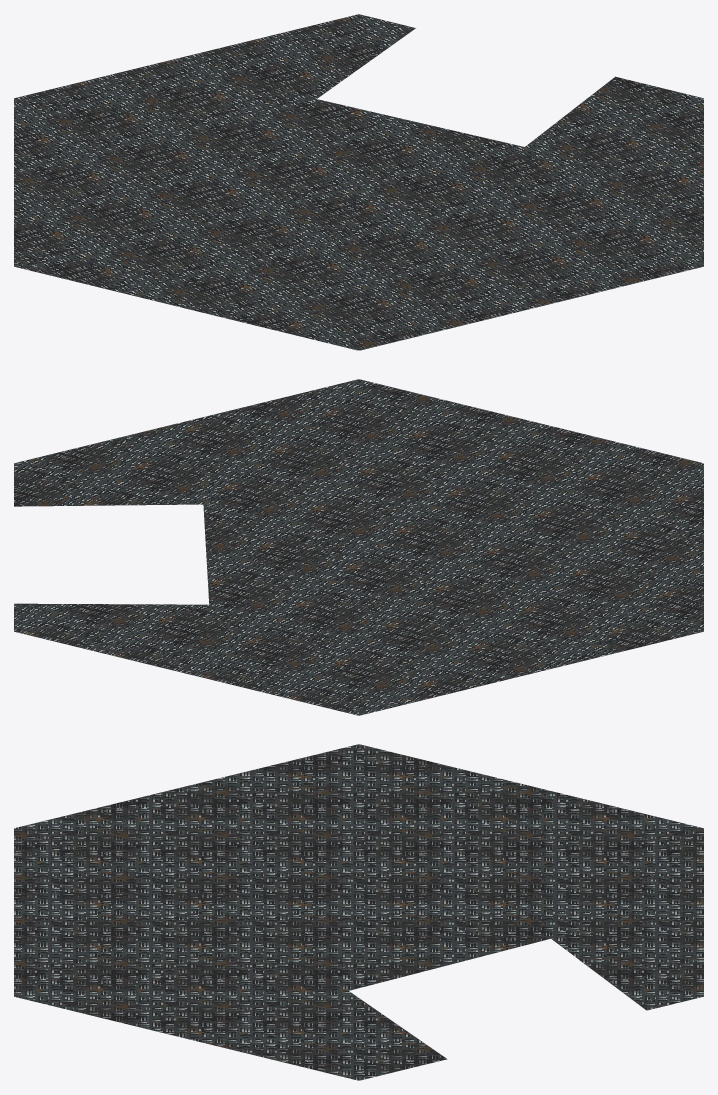
File: Polizei_BodenEingang_2573.glb
3 renders of one model, top to bottom at view 1: azimuth 30°, elevation 25°; view 2: azimuth 150°, elevation 25°; view 3: azimuth 270°, elevation 25°, orthographic.
Visible parts, largest first — view 1: polySurfaceShape1098; view 2: polySurfaceShape1098; view 3: polySurfaceShape1098.
Boxes of the visible parts, bbox=[...] form: polySurfaceShape1098: bbox=[14, 14, 703, 350]; polySurfaceShape1098: bbox=[14, 379, 703, 715]; polySurfaceShape1098: bbox=[14, 744, 703, 1080].
Size of the model in its own units: 1.66 by 6.27e-08 by 1.44.
Materials: 1 (1 with a texture image).
